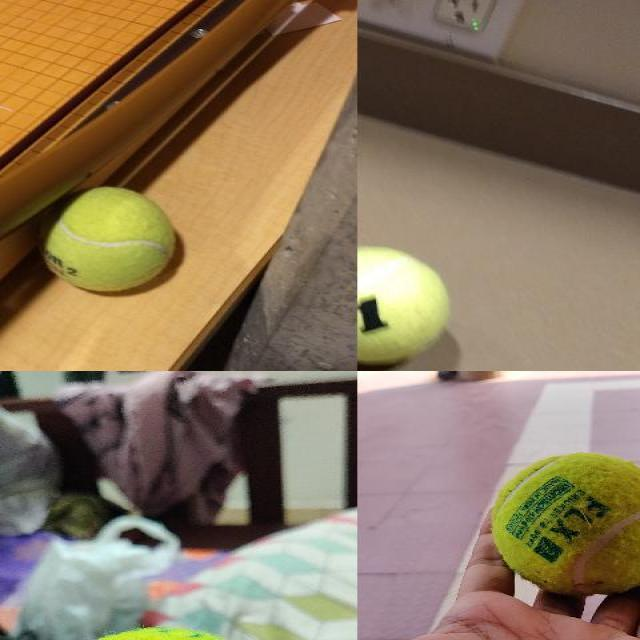tennis-ball: (491, 452, 639, 596), (37, 185, 177, 294), (357, 246, 451, 366)
